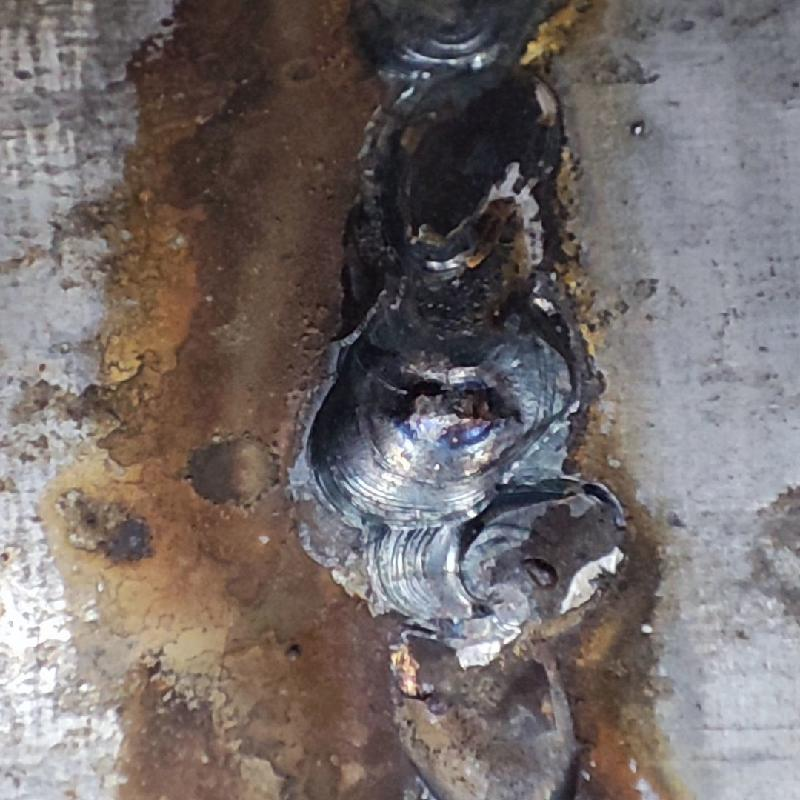wrong_size: (334, 3, 572, 525)
